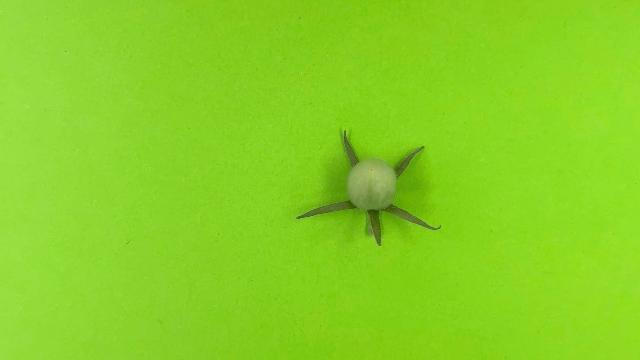Fruit Maturation: (346, 158, 398, 211)
